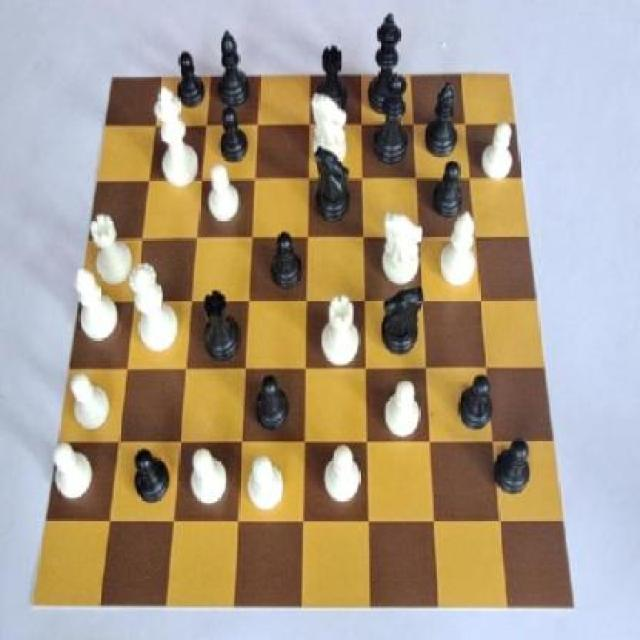bishop: (420, 83, 464, 168), (214, 28, 253, 118)
black-bishop: (365, 10, 412, 119)
black-king: (306, 143, 362, 237), (378, 280, 430, 366)
black-knight: (248, 363, 297, 439), (262, 223, 310, 297), (125, 443, 172, 512), (494, 429, 535, 508), (426, 157, 469, 228), (452, 371, 498, 431), (217, 106, 256, 170), (170, 50, 206, 116)
black-pawn: (370, 60, 416, 167)
black-queen: (194, 282, 243, 368), (311, 40, 359, 113)
black-rook: (68, 263, 124, 348), (437, 199, 485, 296)
white-bishop: (149, 78, 203, 194)
white-king: (378, 203, 426, 292), (308, 85, 356, 170)
white-knight: (180, 440, 231, 518), (377, 372, 426, 448), (243, 436, 287, 520), (66, 366, 118, 437), (317, 443, 368, 514), (202, 154, 248, 226), (50, 438, 94, 511), (478, 118, 518, 187)
white-pawn: (121, 255, 182, 358)
white-queen: (86, 211, 137, 292), (317, 283, 364, 367)
